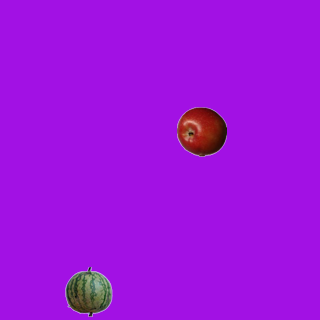Apple Braeburn: (176, 106, 226, 156)
Watermelon: (63, 266, 113, 316)
